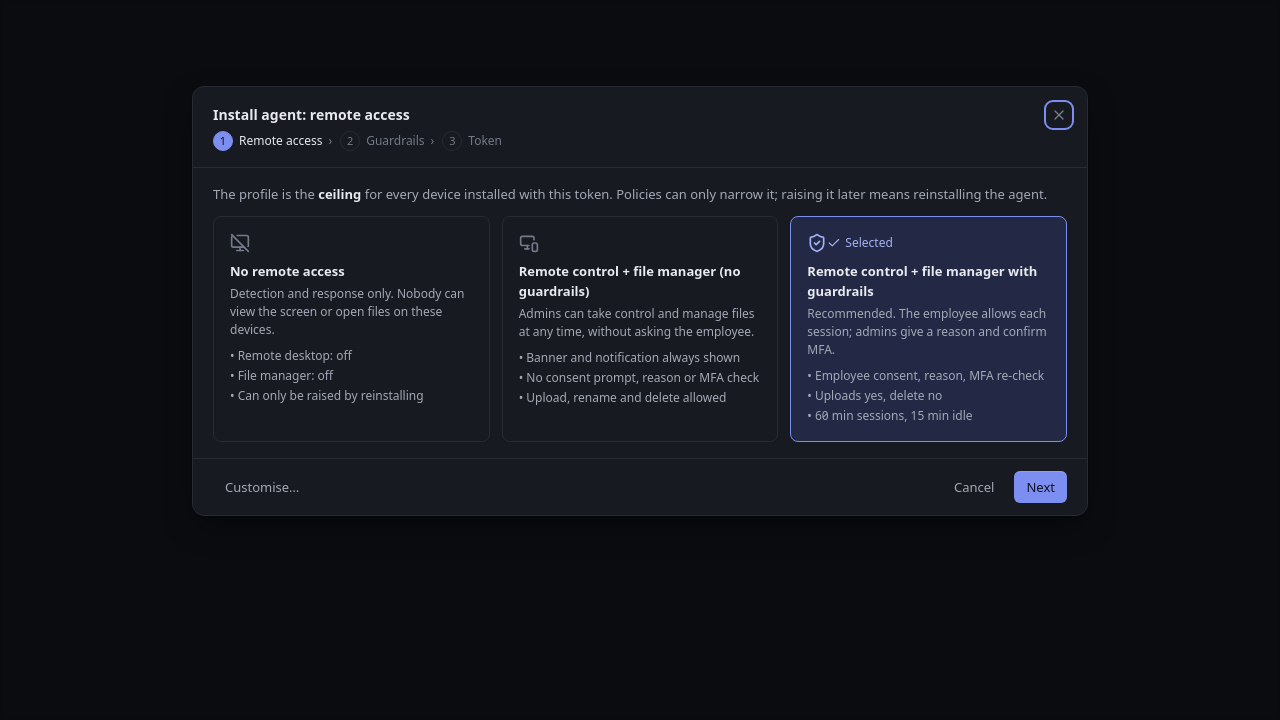
Test case: installer wizard › admin: profile → guardrails → token → installer download
The width and height of the screenshot is (1280, 720).
Expected: the number of radio buttons is 3, [213,216,490,442]; [502,216,778,442]; [790,216,1067,442]
Click the button "Next".
click(1041, 487)  # box [1014,471,1067,503]
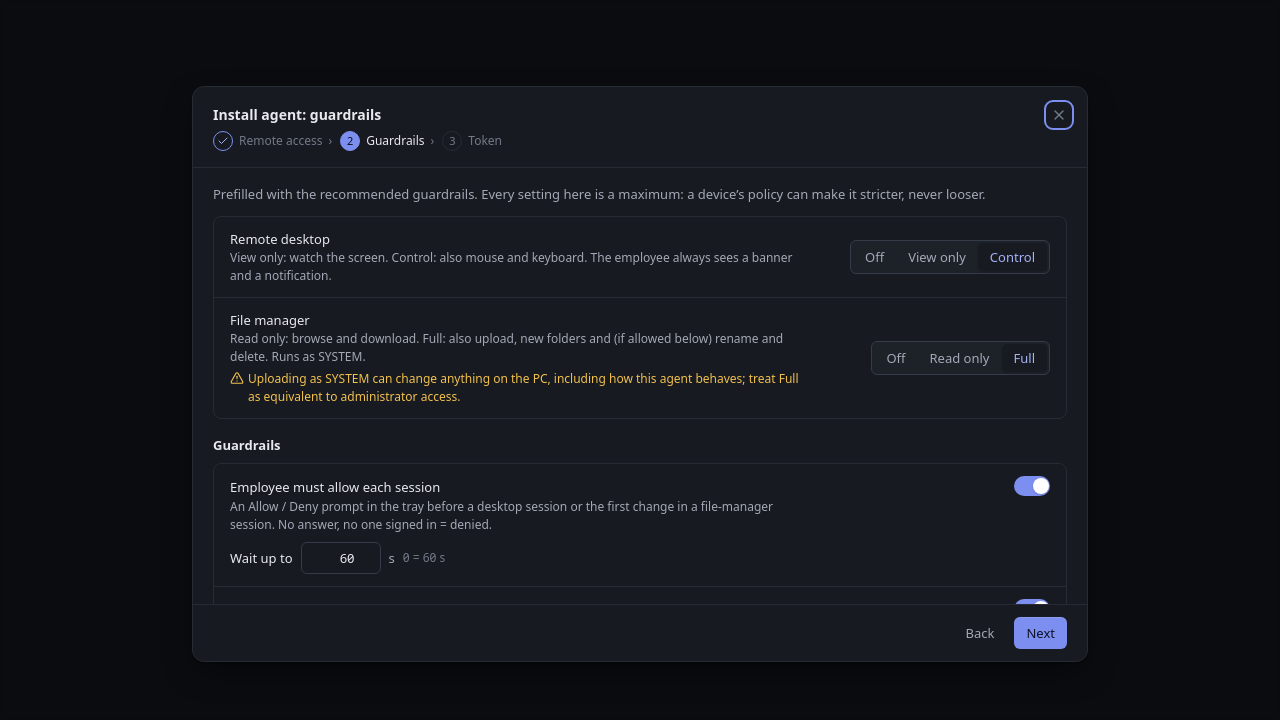
Expected: the text "Prefilled with the recommended guardrails" is shown, [213,185,985,203]
Click the button "Next".
click(1041, 633)  # box [1014,617,1067,649]
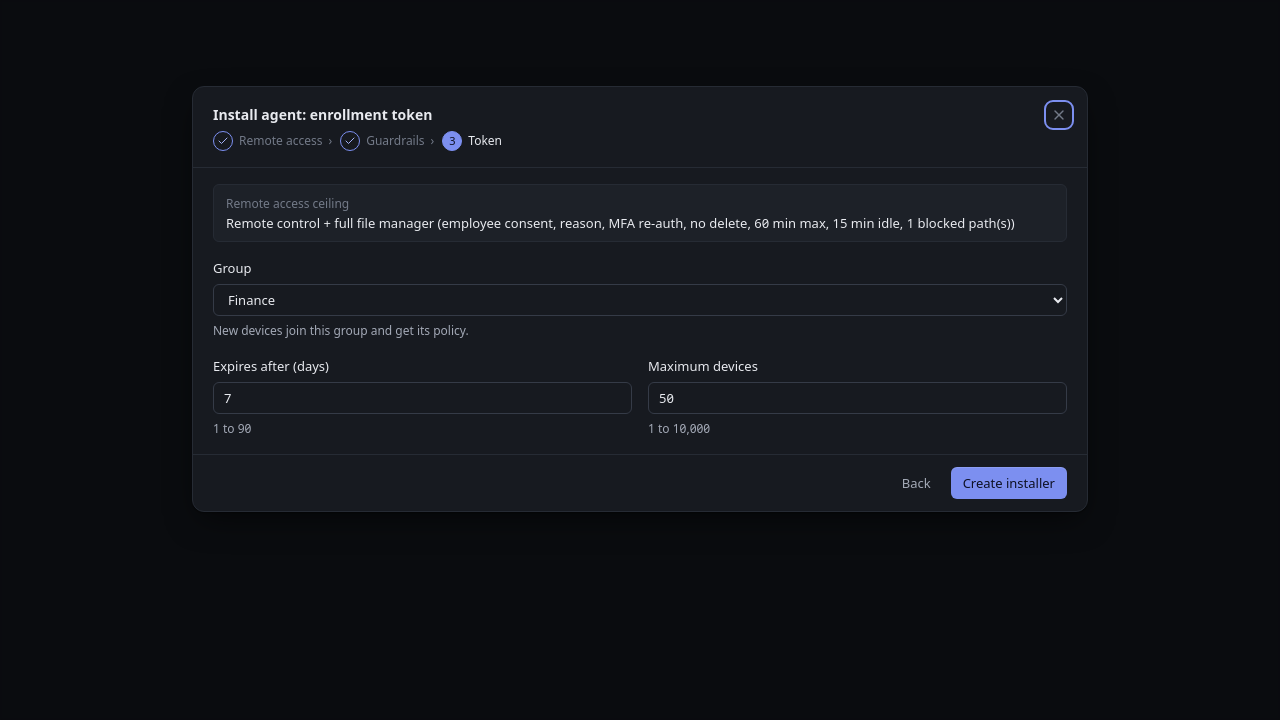
Expected: the dropdown labelled "Group" is shown, [213,284,1067,316]
Expected: the text "employee consent, reason, MFA re-auth" is shown, [226,214,1015,232]
Click the button "Create installer".
click(1009, 483)  # box [951,467,1067,499]
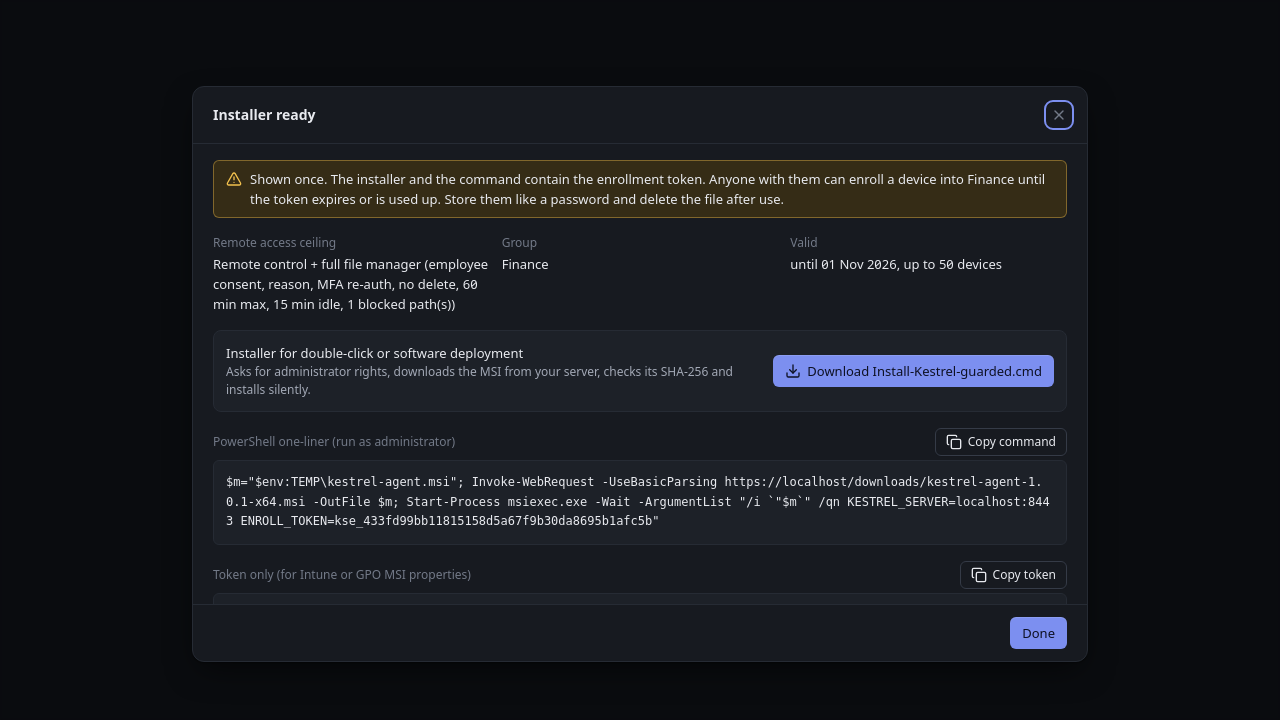
Expected: the button "Download Install-Kestrel-guarded.cmd" is shown, [773,355,1054,387]
Expected: the text "Shown once." is shown, [250,170,327,188]
Expected: the text "PowerShell one-liner (run as administrator)" is shown, [213,433,455,451]
